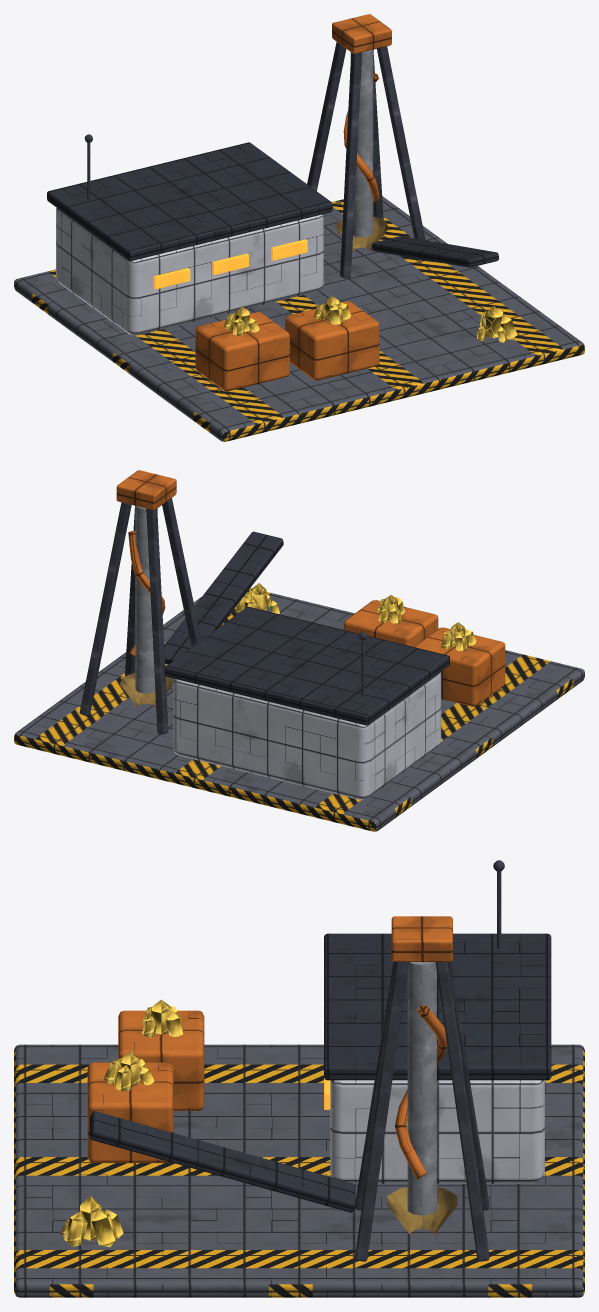
Rendered from sf_goldmine.glb.
The picture shows the model from 3 angles, top to bottom: view 1: azimuth 30°, elevation 25°; view 2: azimuth 150°, elevation 25°; view 3: azimuth 270°, elevation 25°; orthographic projection. The views are drawn at different scales.
Visible parts, largest first — view 1: Base, Drill; view 2: Base, Drill; view 3: Base, Drill.
Boxes of the visible parts, box(x1,y1,x2,y2) form: Base: box(14, 14, 584, 441); Drill: box(335, 50, 388, 252); Base: box(14, 470, 584, 831); Drill: box(120, 506, 173, 707); Base: box(14, 860, 584, 1297); Drill: box(387, 962, 457, 1235).
Size of the model in its own units: 1.86 by 1.16 by 1.86.
Materials: 9 (9 with a texture image).
